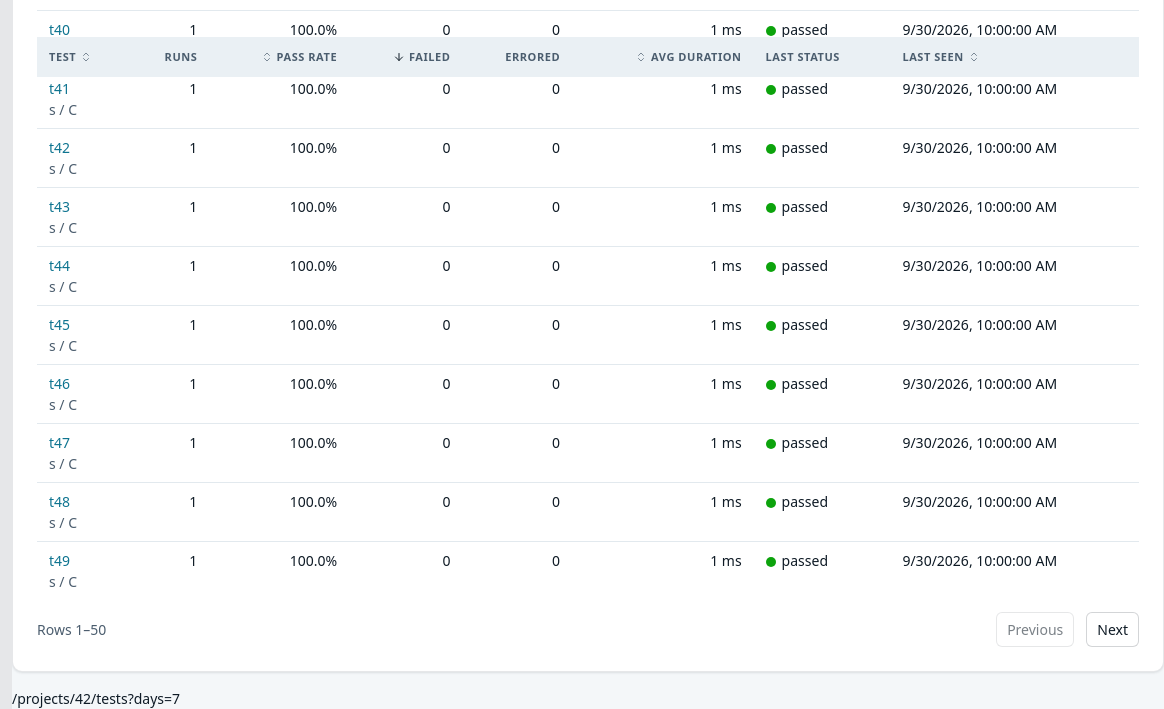
Test case: Tests › Next pages through the URL
(page scrolled)
Click the button "Next". click: (1113, 630)
box: [1086,612,1139,647]
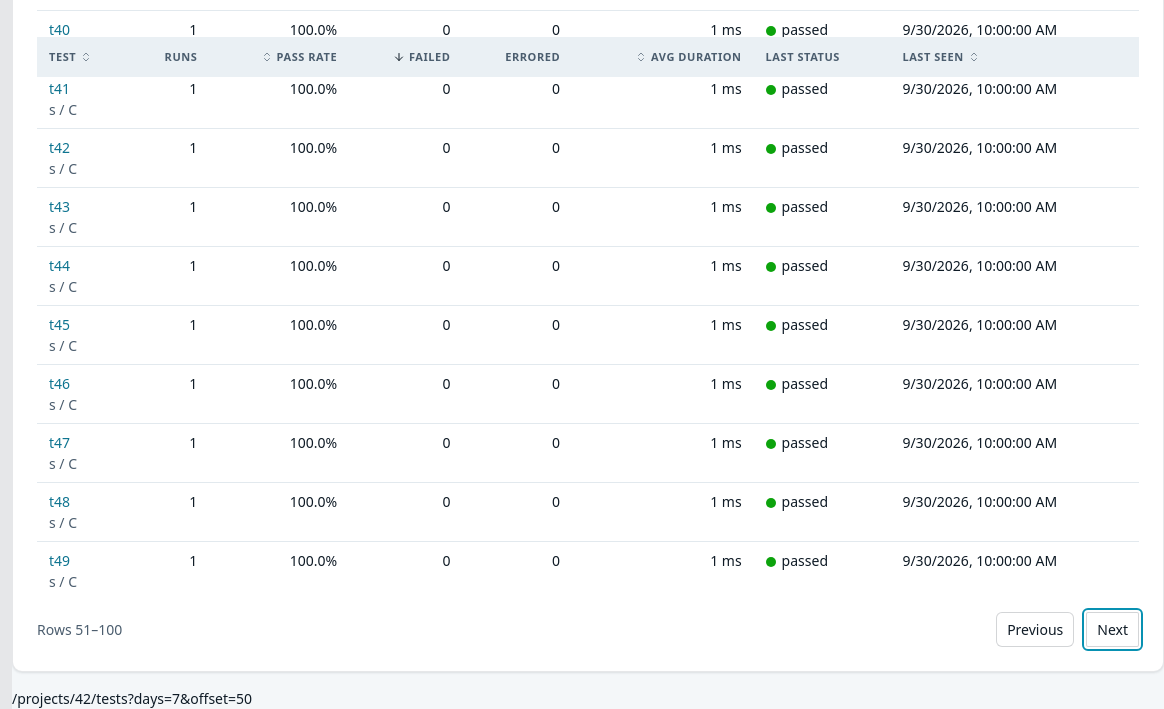
Check: the text with test id "where" reads "/projects/42/tests?days=7&offset=50", box [12,689,252,708]
